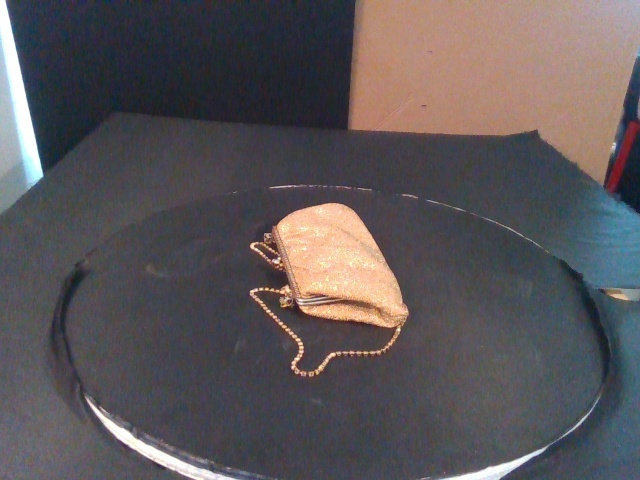bag: (270, 202, 410, 329)
